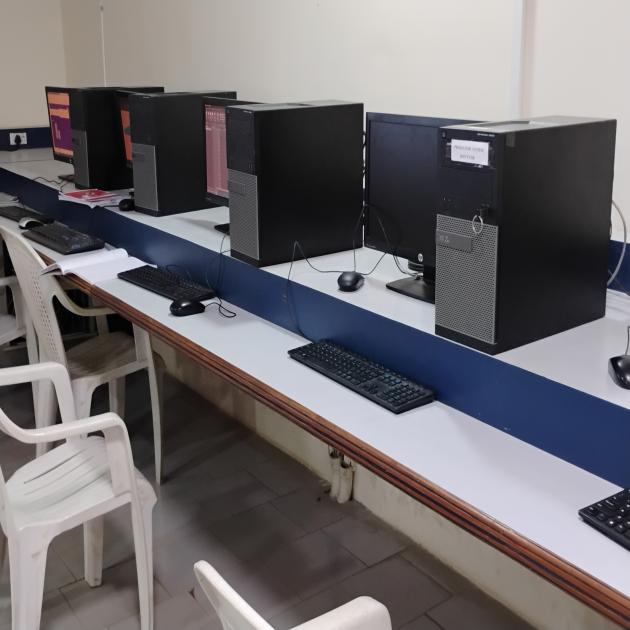computer: (362, 101, 441, 298)
cpu: (447, 120, 598, 338), (222, 107, 360, 281), (130, 97, 209, 223)
desk: (7, 163, 621, 622)
